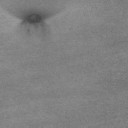iron sheet ash: (19, 9, 52, 25)
